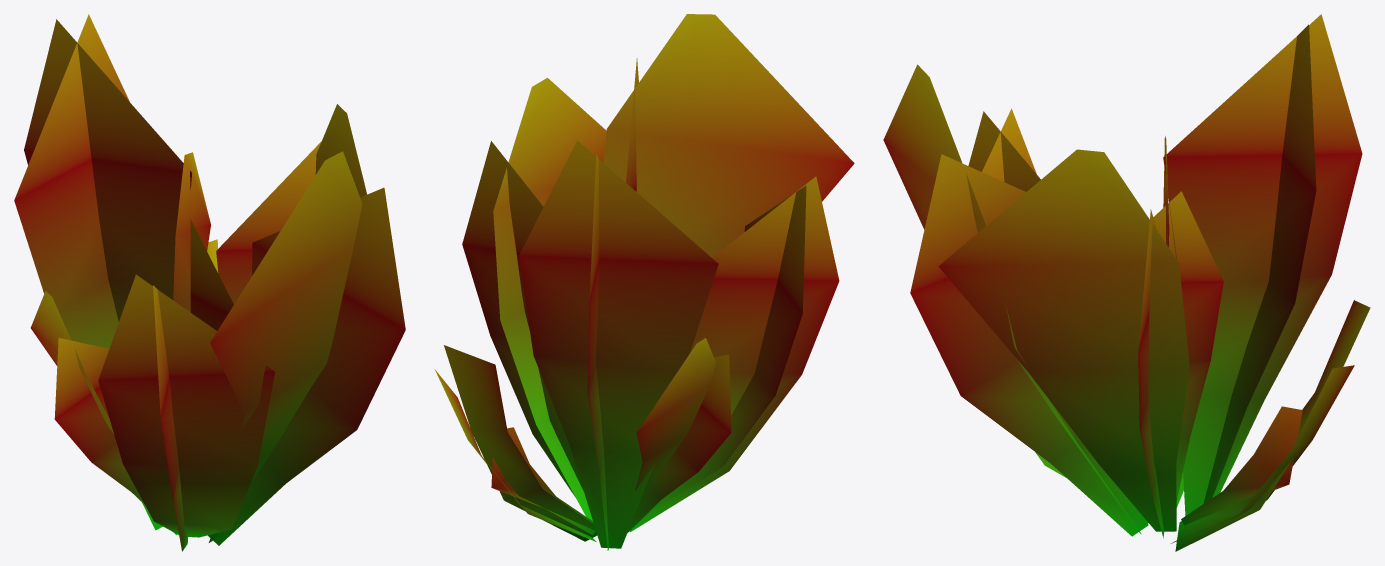
Rendered from Dead Broom Bush_LOD0_Var5_tlpjdhwia.fbx.
3 renders of one model, left to right at view 1: azimuth 30°, elevation 25°; view 2: azimuth 150°, elevation 25°; view 3: azimuth 270°, elevation 25°, orthographic. The views are drawn at different scales.
Parts seen in each view (by area): view 1: _f55d_Var5_LOD0; view 2: _f55d_Var5_LOD0; view 3: _f55d_Var5_LOD0.
Boxes of the visible parts, x1,y1,x2,y2 form: _f55d_Var5_LOD0: (14,14,405,551); _f55d_Var5_LOD0: (434,14,854,550); _f55d_Var5_LOD0: (883,14,1370,551).
Bounding box in the file's own units: 18.43 × 26.79 × 23.68.
